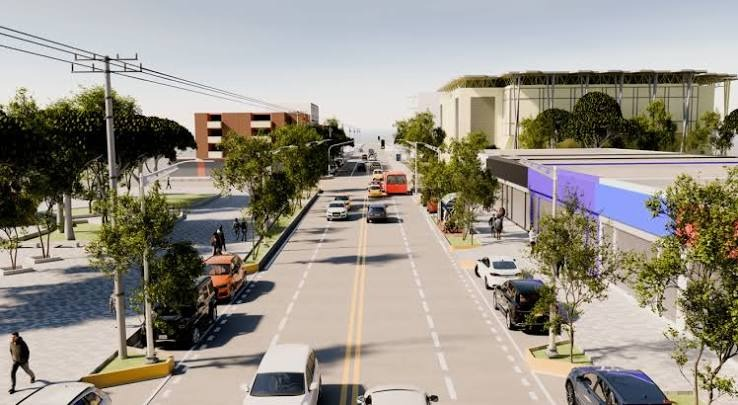car: (57, 135, 695, 401), (564, 367, 688, 405), (566, 366, 682, 405), (169, 216, 252, 258), (247, 352, 312, 401), (203, 252, 252, 303), (474, 257, 537, 292)
